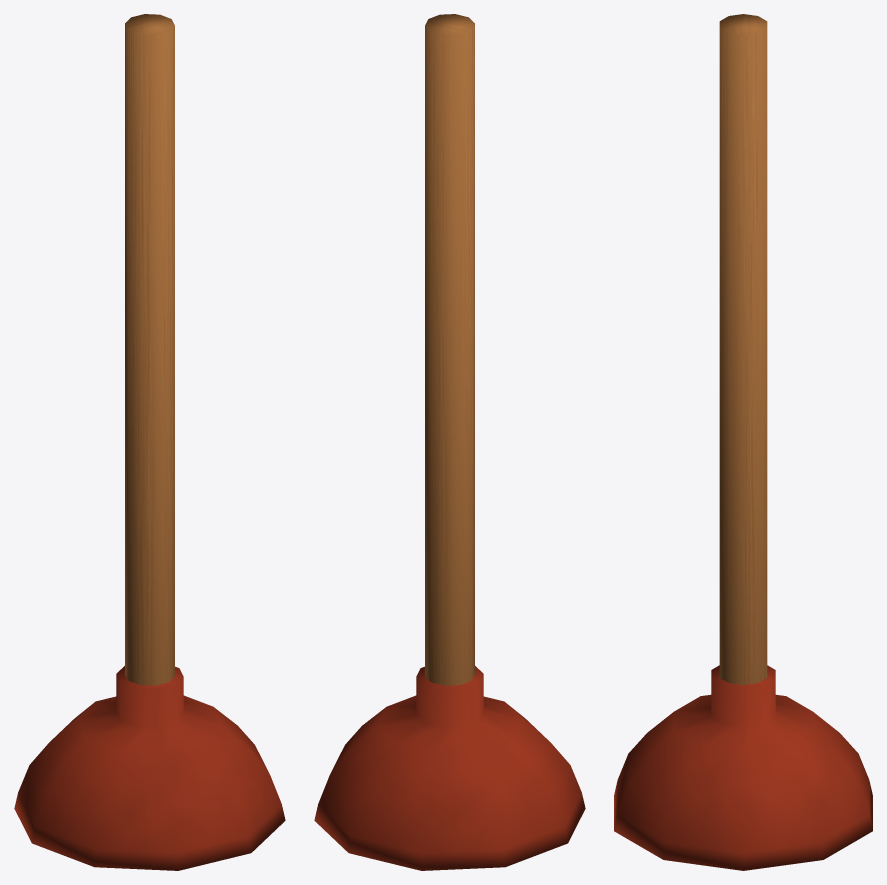
Rendered from Plunger.FBX.
The picture shows the model from 3 angles, left to right: view 1: azimuth 30°, elevation 25°; view 2: azimuth 150°, elevation 25°; view 3: azimuth 270°, elevation 25°; orthographic projection.
Visible parts, largest first — view 1: Plunger; view 2: Plunger; view 3: Plunger.
Part boxes in pixels (bbox=[...]): Plunger: bbox=[14, 14, 285, 870]; Plunger: bbox=[314, 14, 585, 870]; Plunger: bbox=[614, 14, 872, 870].
Size of the model in its own units: 40.85 by 131 by 38.85.
